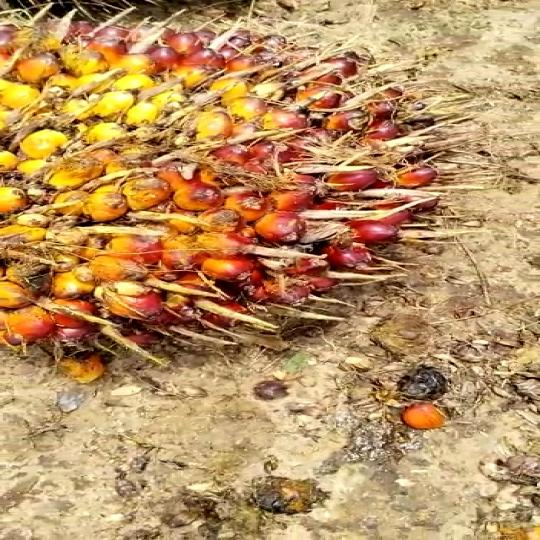masak: (0, 0, 437, 368)
